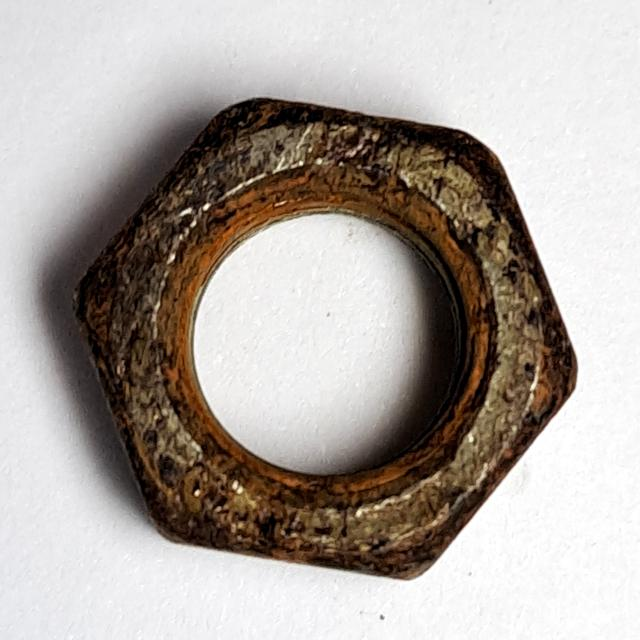Rust: (57, 90, 592, 594)
